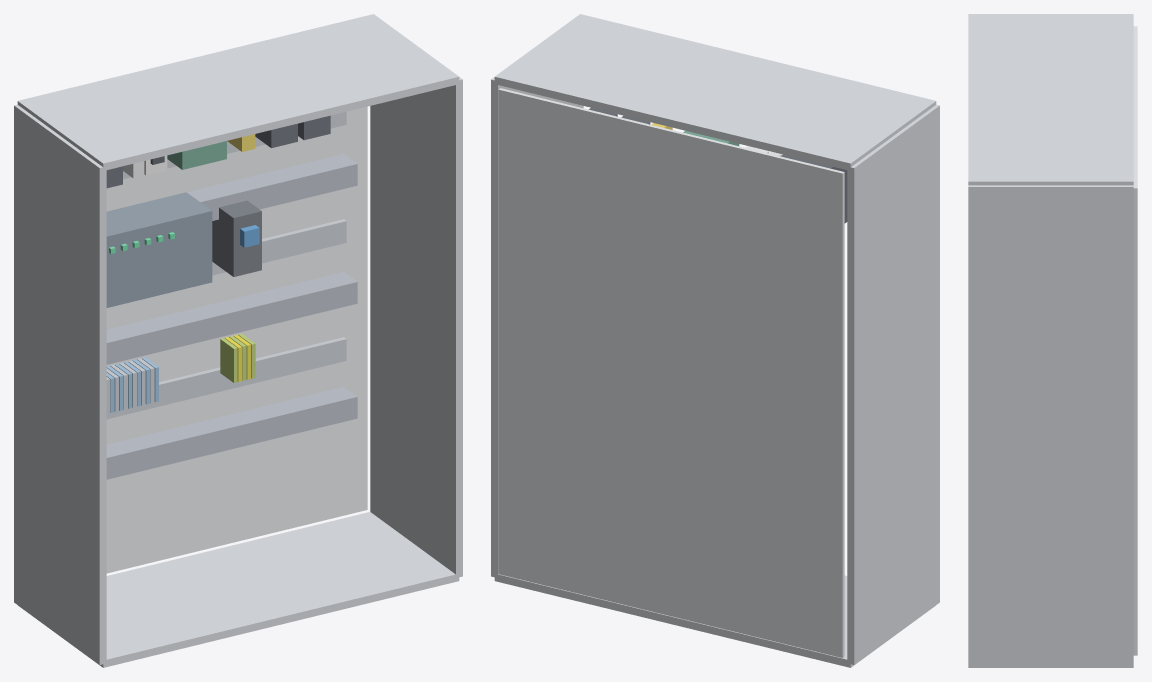
Rendered from demo-schaltschrank.glb.
3 renders of one model, left to right at view 1: azimuth 30°, elevation 25°; view 2: azimuth 150°, elevation 25°; view 3: azimuth 270°, elevation 25°, orthographic. The views are drawn at different scales.
Visible parts, largest first — view 1: Demo-Schaltschrank; view 2: Demo-Schaltschrank; view 3: Demo-Schaltschrank.
Boxes of the visible parts, box(x1,y1,x2,y2) form: Demo-Schaltschrank: box(14, 14, 462, 667); Demo-Schaltschrank: box(491, 14, 939, 667); Demo-Schaltschrank: box(968, 14, 1137, 667).
Size of the model in its own units: 0.612 by 0.812 by 0.256.
